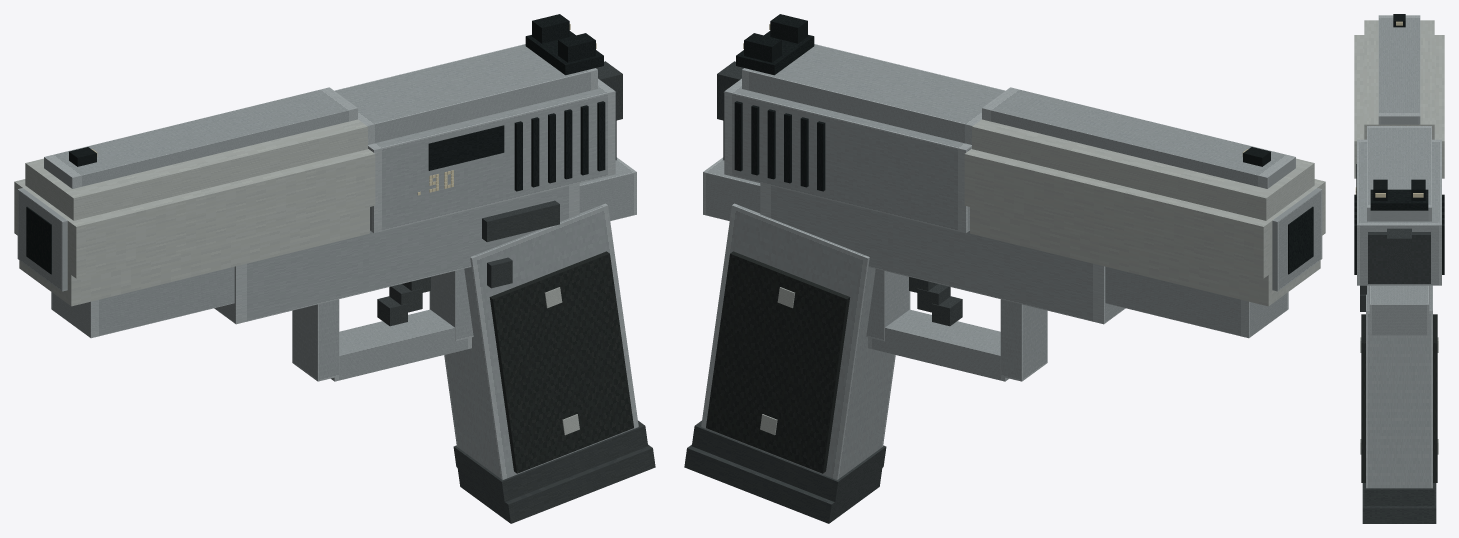
The model's file is Ironhawk50.glb.
3 views of the same model, side by side, from view 1: azimuth 30°, elevation 25°; view 2: azimuth 150°, elevation 25°; view 3: azimuth 270°, elevation 25° (orthographic). The views are drawn at different scales.
Visible parts, largest first — view 1: Broad rubber grip -1, Fixed barrel wide shoulder, Short rear slide, Lower steel chassis, Grip metal core, Rear slide bevel, Fixed top barrel rib, Fixed barrel bevel tier, Fixed octagonal barrel lower, Gas block under barrel, Guard floor, Magazine heel pad (+12 smaller); view 2: Broad rubber grip 1, Short rear slide, Fixed barrel wide shoulder, Lower steel chassis, Grip metal core, Rear slide bevel, Fixed top barrel rib, Fixed barrel bevel tier, Fixed octagonal barrel lower, Gas block under barrel, Guard floor, Magazine heel pad (+10 smaller); view 3: Grip metal core, Rear slide bevel, Fixed top barrel rib, Short rear slide, Fixed barrel bevel tier, Deep beavertail, Fixed barrel wide shoulder, Rear backplate, Magazine heel pad, Grip heel, Exposed hammer, Rear sight base (+7 smaller).
Part boxes in pixels (x1,y1,x2,y2): Broad rubber grip -1: [489, 251, 633, 473]; Fixed barrel wide shoulder: [14, 149, 375, 278]; Short rear slide: [368, 78, 615, 233]; Lower steel chassis: [214, 183, 579, 324]; Grip metal core: [444, 203, 638, 479]; Rear slide bevel: [334, 44, 597, 144]; Fixed top barrel rib: [44, 87, 357, 188]; Fixed barrel bevel tier: [25, 119, 367, 220]; Fixed octagonal barrel lower: [19, 207, 369, 306]; Gas block under barrel: [51, 266, 234, 338]; Guard floor: [331, 309, 471, 381]; Magazine heel pad: [457, 444, 655, 523]; Broad rubber grip 1: [706, 251, 850, 473]; Short rear slide: [724, 78, 971, 233]; Fixed barrel wide shoulder: [964, 149, 1325, 278]; Lower steel chassis: [760, 183, 1125, 324]; Grip metal core: [701, 203, 895, 479]; Rear slide bevel: [742, 44, 1005, 144]; Fixed top barrel rib: [982, 87, 1295, 188]; Fixed barrel bevel tier: [972, 119, 1314, 220]; Fixed octagonal barrel lower: [970, 207, 1320, 306]; Gas block under barrel: [1105, 266, 1288, 338]; Guard floor: [868, 309, 1008, 381]; Magazine heel pad: [684, 444, 882, 523]; Grip metal core: [1366, 285, 1432, 488]; Rear slide bevel: [1367, 126, 1431, 221]; Fixed top barrel rib: [1378, 15, 1420, 124]; Short rear slide: [1357, 139, 1441, 285]; Fixed barrel bevel tier: [1364, 20, 1434, 139]; Deep beavertail: [1369, 285, 1429, 335]; Fixed barrel wide shoulder: [1354, 35, 1444, 178]; Rear backplate: [1368, 232, 1430, 283]; Magazine heel pad: [1362, 483, 1436, 523]; Grip heel: [1364, 483, 1434, 505]; Exposed hammer: [1387, 228, 1411, 271]; Rear sight base: [1370, 189, 1428, 210].
Size of the model in its own units: 0.2755 by 0.2028 by 0.0502.
Materials: 1 (1 with a texture image).
